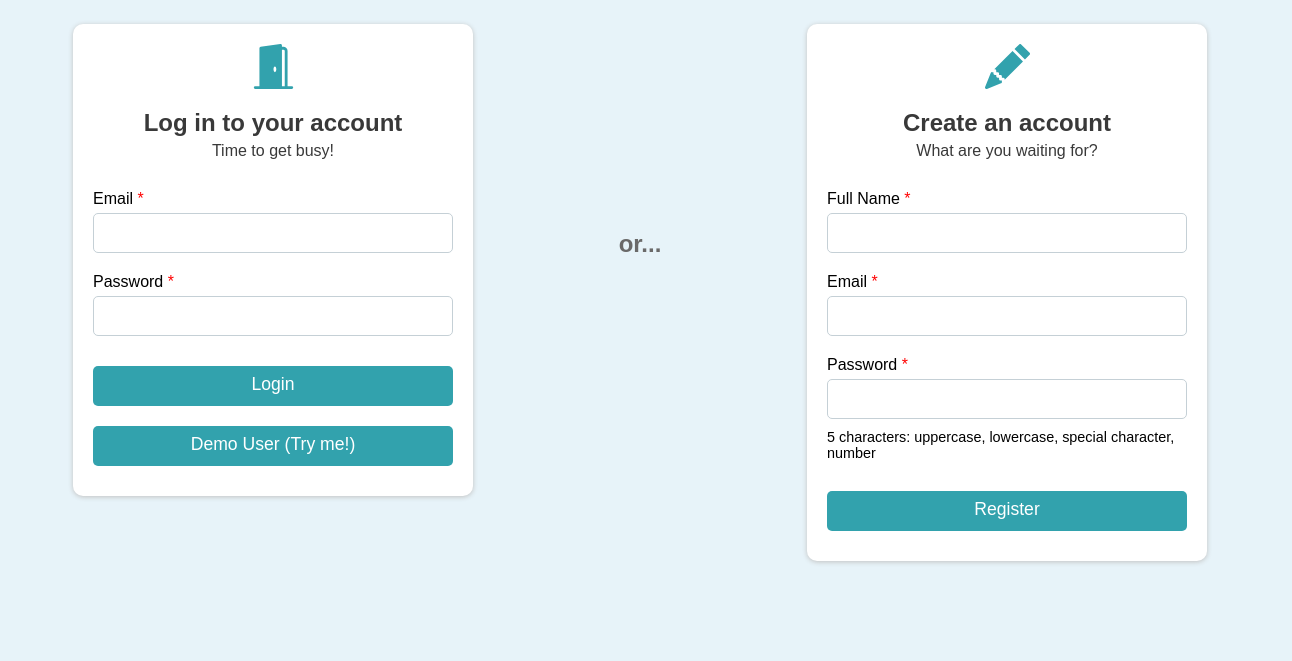
it: login <App /> › logs in if clicks demo user
The width and height of the screenshot is (1292, 661).
(page scrolled)
Click the button "Demo User (Try me!)" at (273, 446), box [93, 426, 453, 466]
(page scrolled)
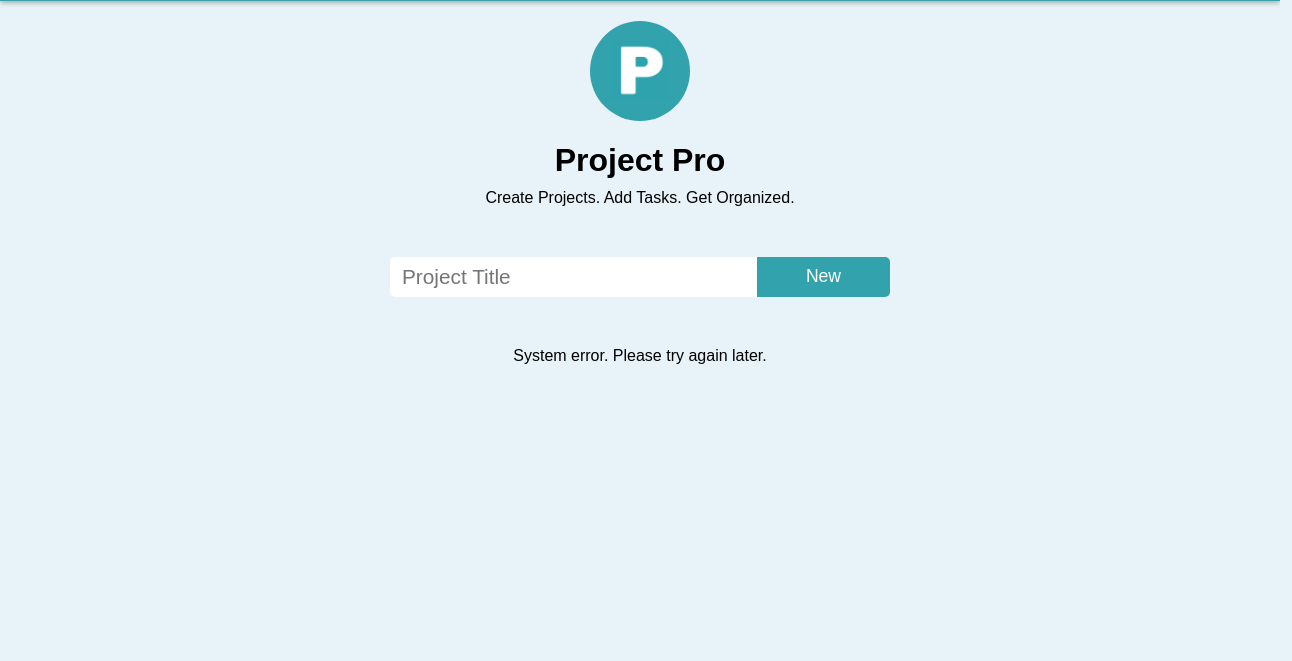
Expected: the text "System error. Please try again later." is shown, [513, 347, 767, 364]
